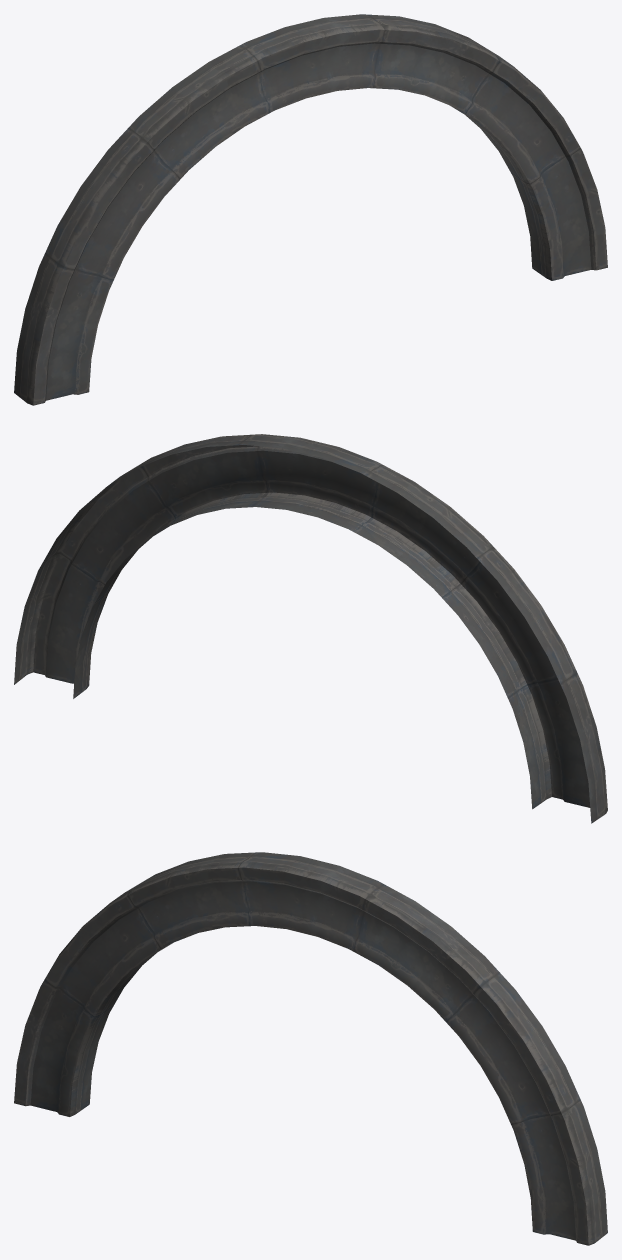
The model's file is TrimRound01.fbx.
The picture shows the model from 3 angles, top to bottom: view 1: azimuth 30°, elevation 25°; view 2: azimuth 150°, elevation 25°; view 3: azimuth 330°, elevation 25°; orthographic projection.
Visible parts, largest first — view 1: Object140; view 2: Object140; view 3: Object140.
Part boxes in pixels (box(x1,y1,x2,y2)): Object140: box(14, 14, 607, 405); Object140: box(14, 434, 607, 823); Object140: box(14, 852, 607, 1245).
Bounding box in the file's own units: 870 × 434 × 47.25.
